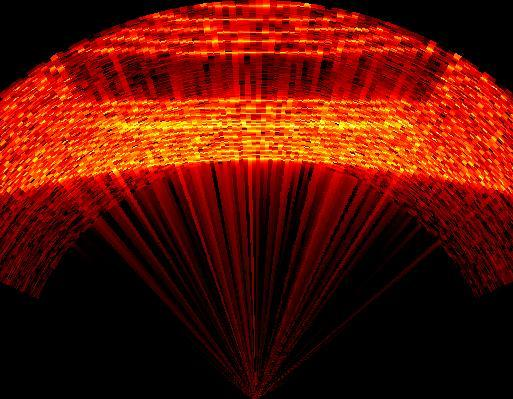pipe: (56, 54, 456, 106)
